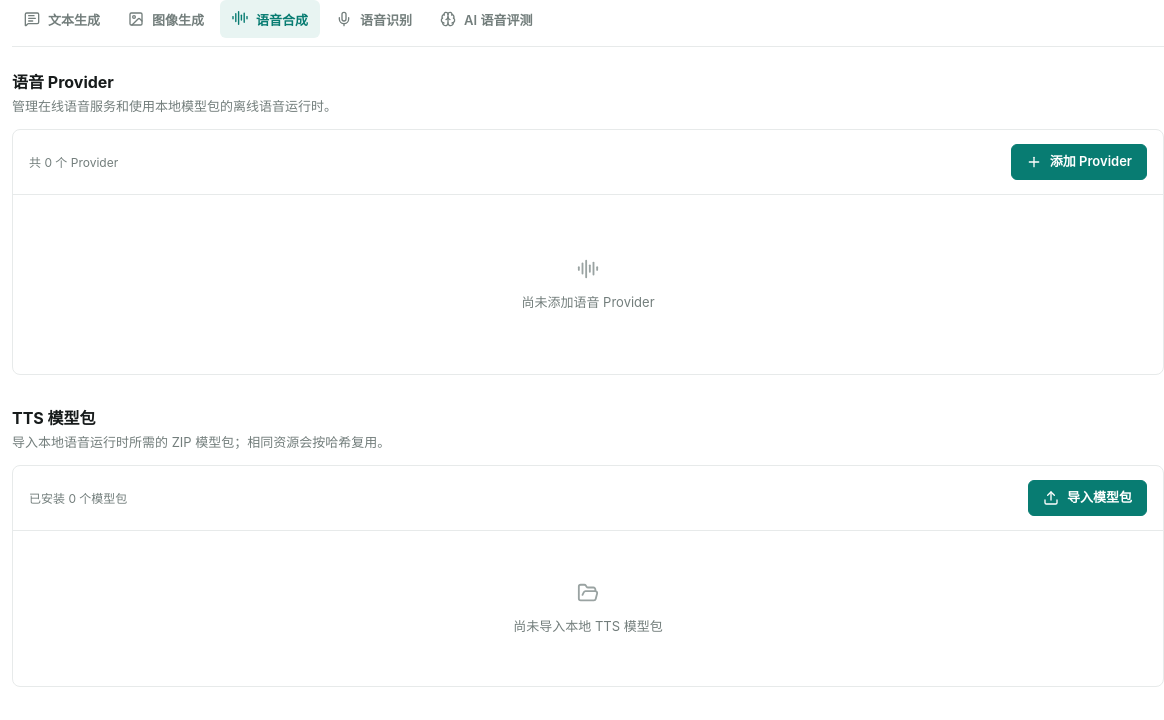
AIRouterSettingsPage › uses URL-backed model categories and exposes speech recognition providers
Expected: the heading "语音 Provider" is shown, [12,72,114,92]
Expected: the heading "TTS 模型包" is shown, [12,408,96,428]
Click the tab "语音识别": (374, 19) [336,11,412,28]
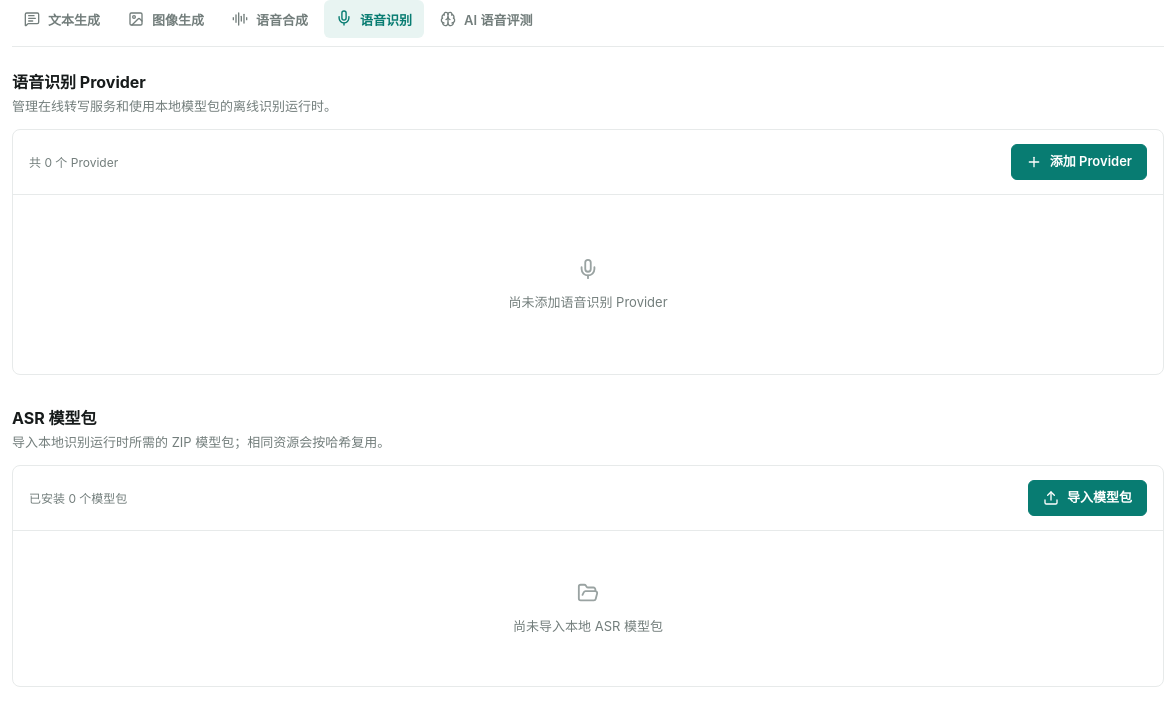
Expected: the heading "语音识别 Provider" is shown, [12,72,146,92]
Expected: the heading "ASR 模型包" is shown, [12,408,96,428]
